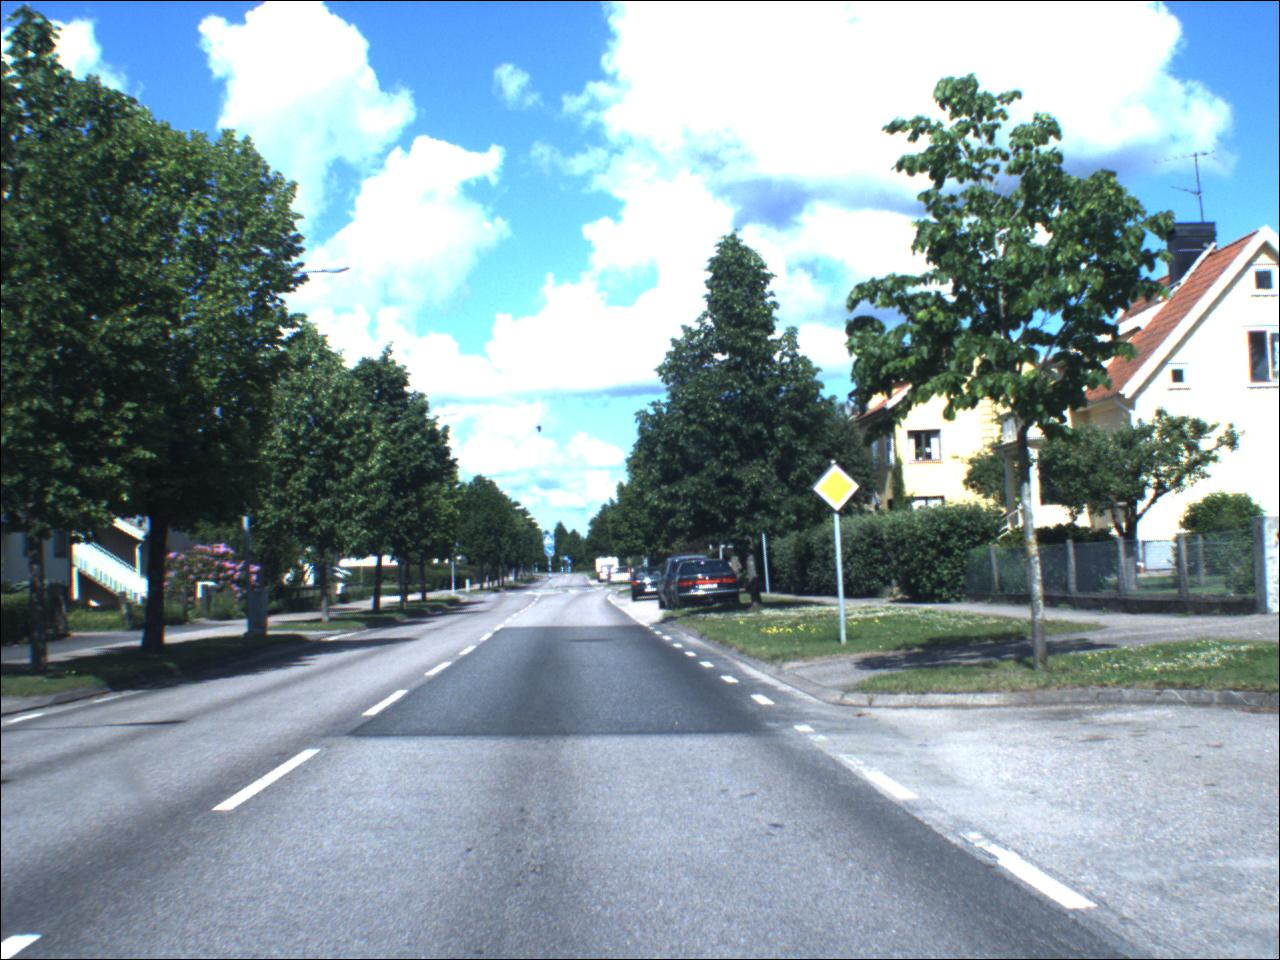PASS_RIGHT_SIDE: (547, 548, 557, 560), (570, 561, 574, 566)
PEDESTRIAN_CROSSING: (545, 536, 558, 549), (566, 557, 571, 562)
PRIORITY_ROAD: (813, 465, 862, 515)
